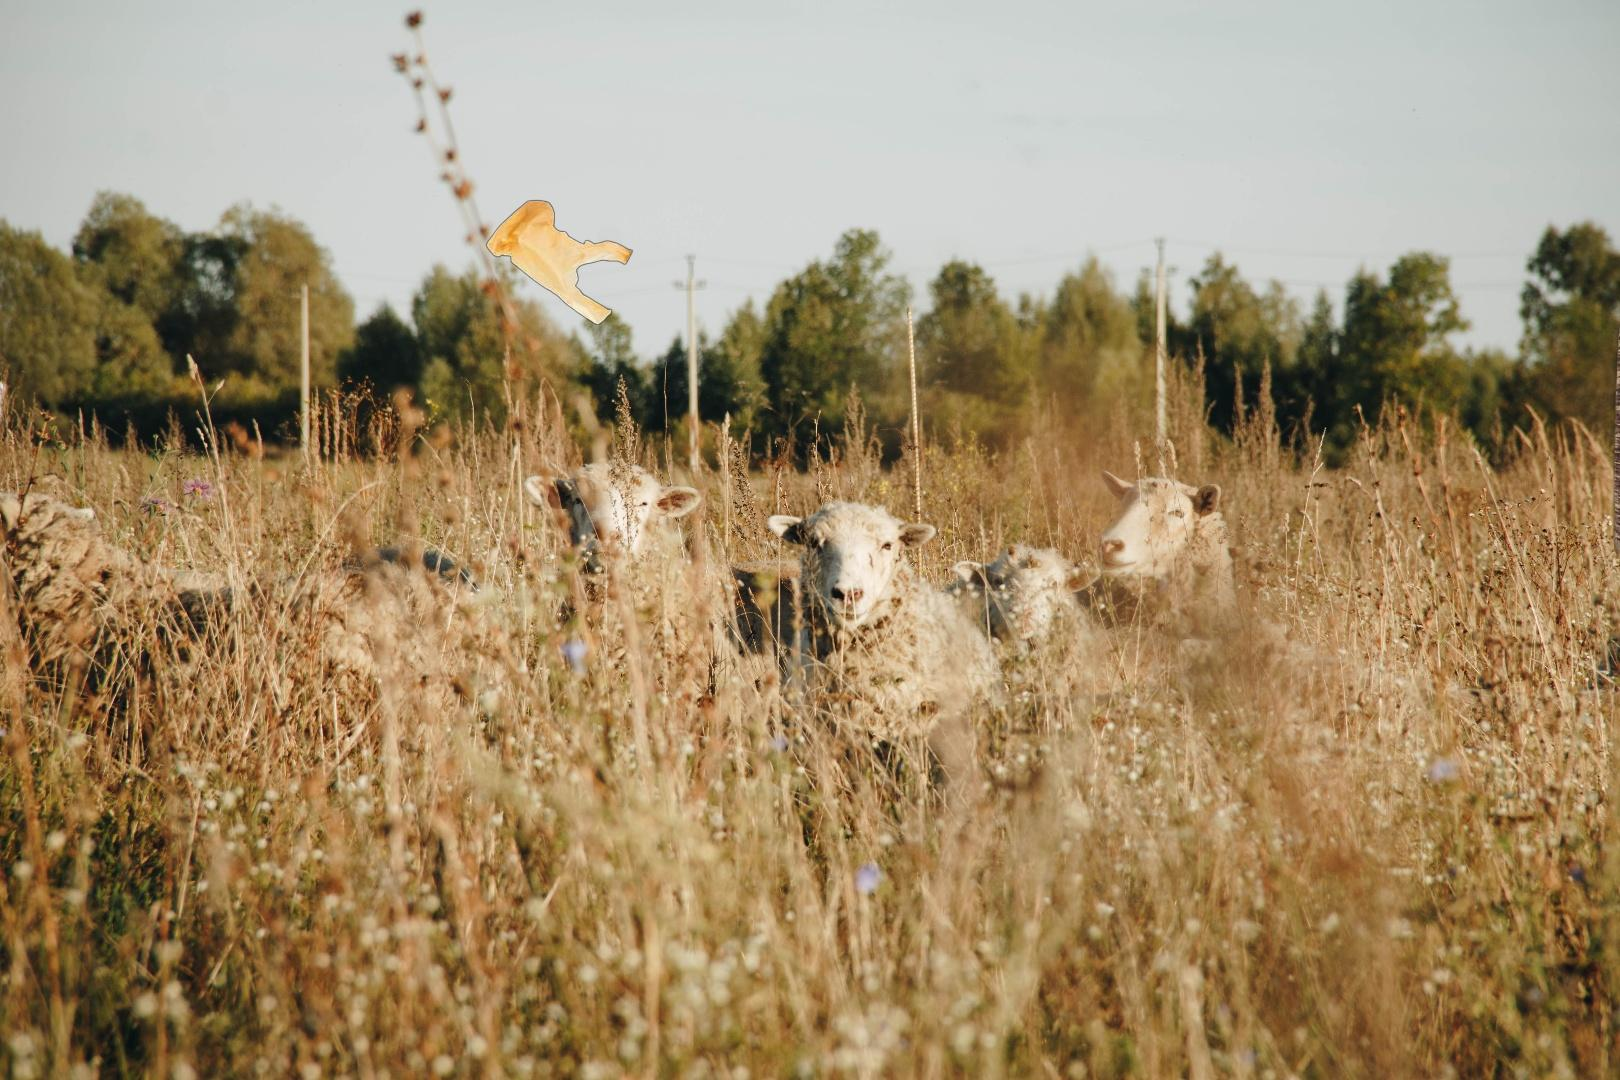clothes: (1610, 212, 1620, 745)
plastic-bag: (483, 199, 636, 328)
